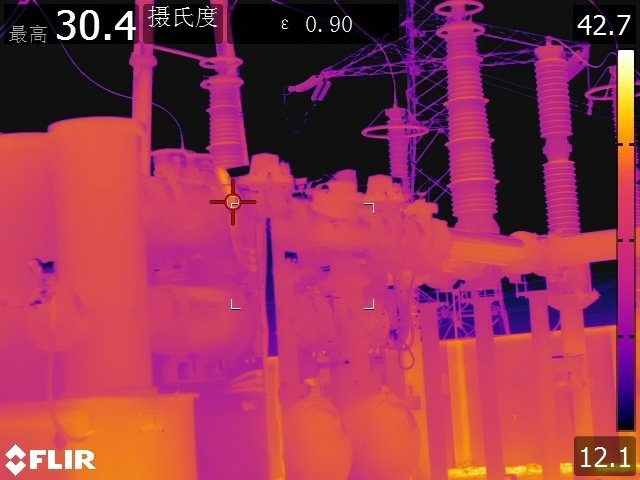insulator: (287, 72, 320, 95), (311, 76, 335, 103)
lightning arrester: (365, 101, 427, 199), (588, 62, 640, 150)
potential transformer: (532, 39, 600, 305)
tube: (433, 5, 500, 233), (192, 48, 252, 171)
